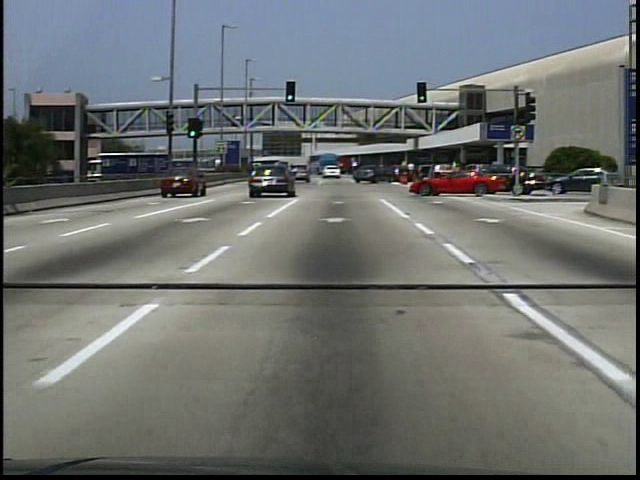person: (406, 161, 417, 184), (434, 163, 442, 180), (231, 117, 239, 132)
